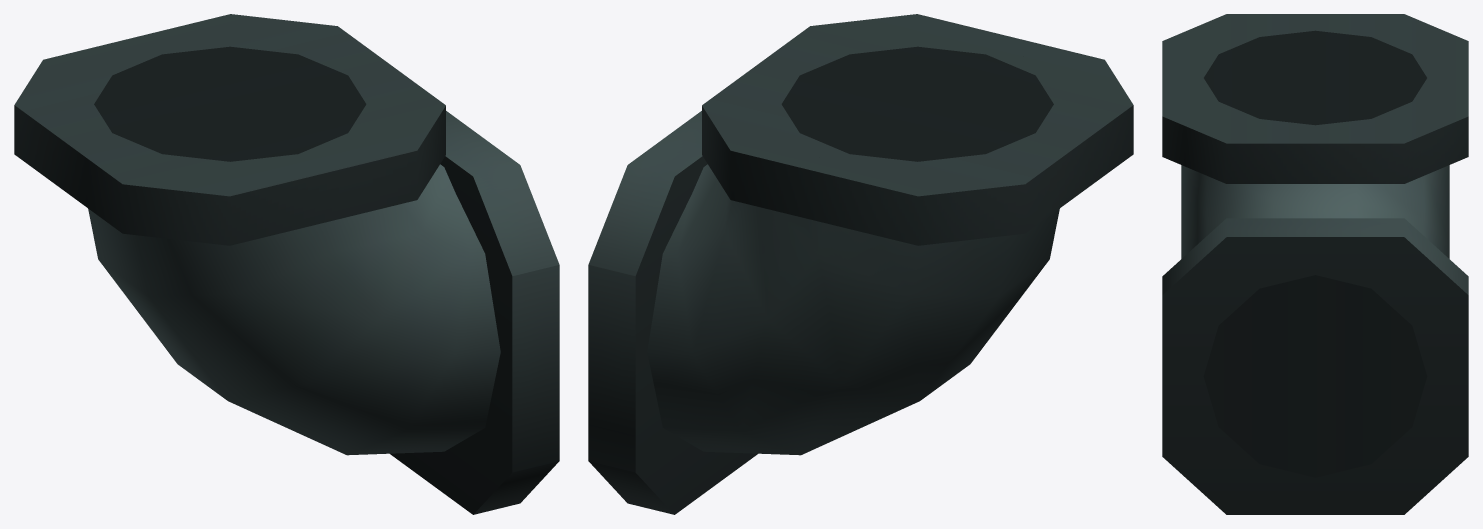
File: Pipe_3F.fbx
3 views of the same model, side by side, from view 1: azimuth 30°, elevation 25°; view 2: azimuth 150°, elevation 25°; view 3: azimuth 270°, elevation 25° (orthographic). The views are drawn at different scales.
Visible parts, largest first — view 1: Pipe_3F; view 2: Pipe_3F; view 3: Pipe_3F.
Boxes of the visible parts, x1,y1,x2,y2 form: Pipe_3F: (14,14,559,514); Pipe_3F: (588,14,1133,514); Pipe_3F: (1162,14,1468,514).
Size of the model in its own units: 1.69 by 1.69 by 1.37.
